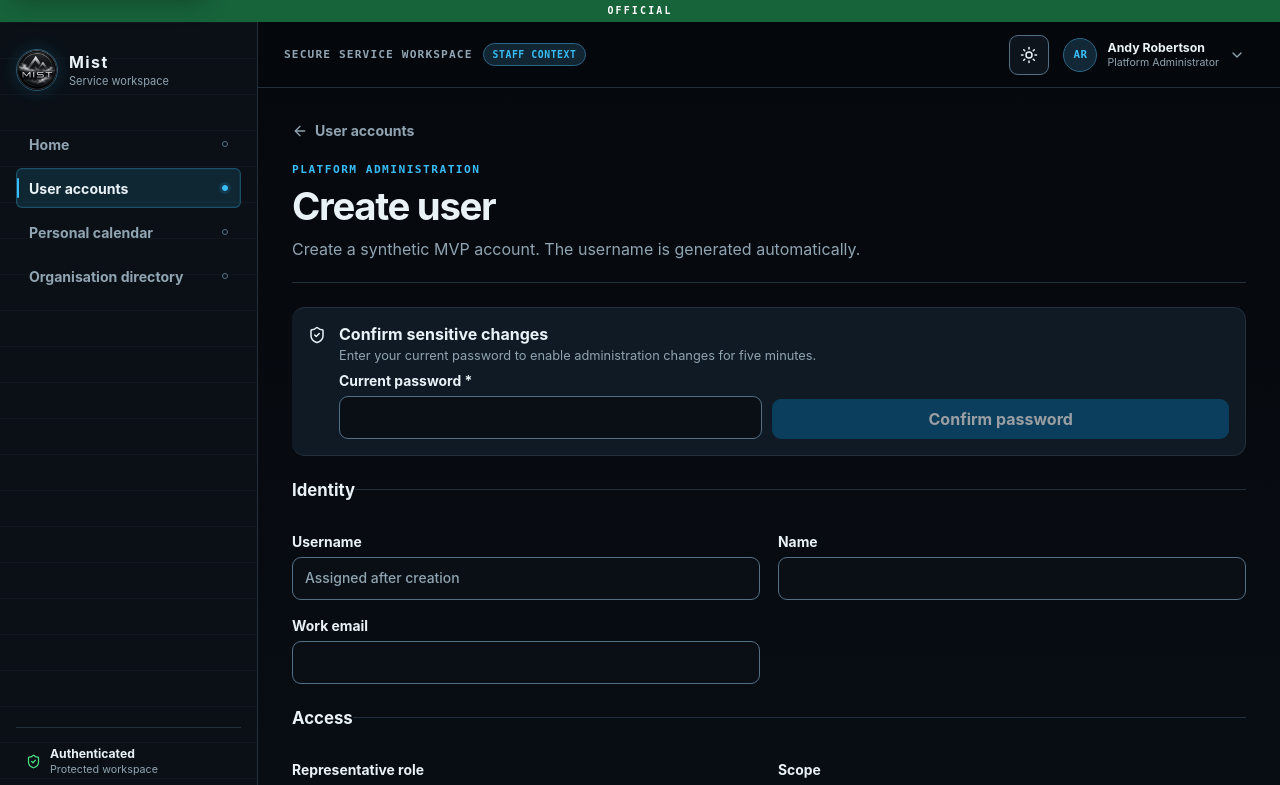
Test case: platform administrator access › keeps sensitive controls locked when password confirmation fails
Step 1. Type "wrong" into the password field labelled "Current password *" → (551, 417), box x1=339 y1=396 x2=762 y2=439
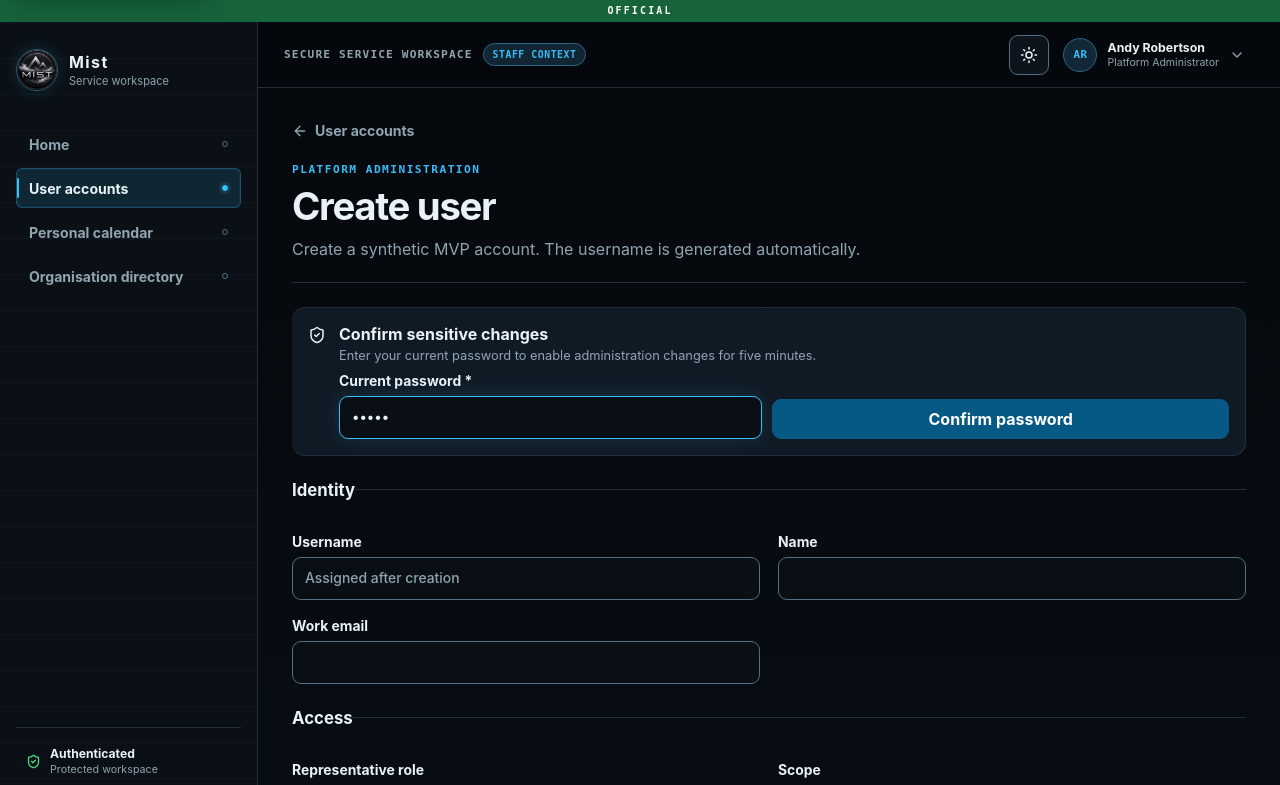
Step 2. Click the button "Confirm password" → click(1001, 419), box x1=772 y1=399 x2=1229 y2=439
(page scrolled)
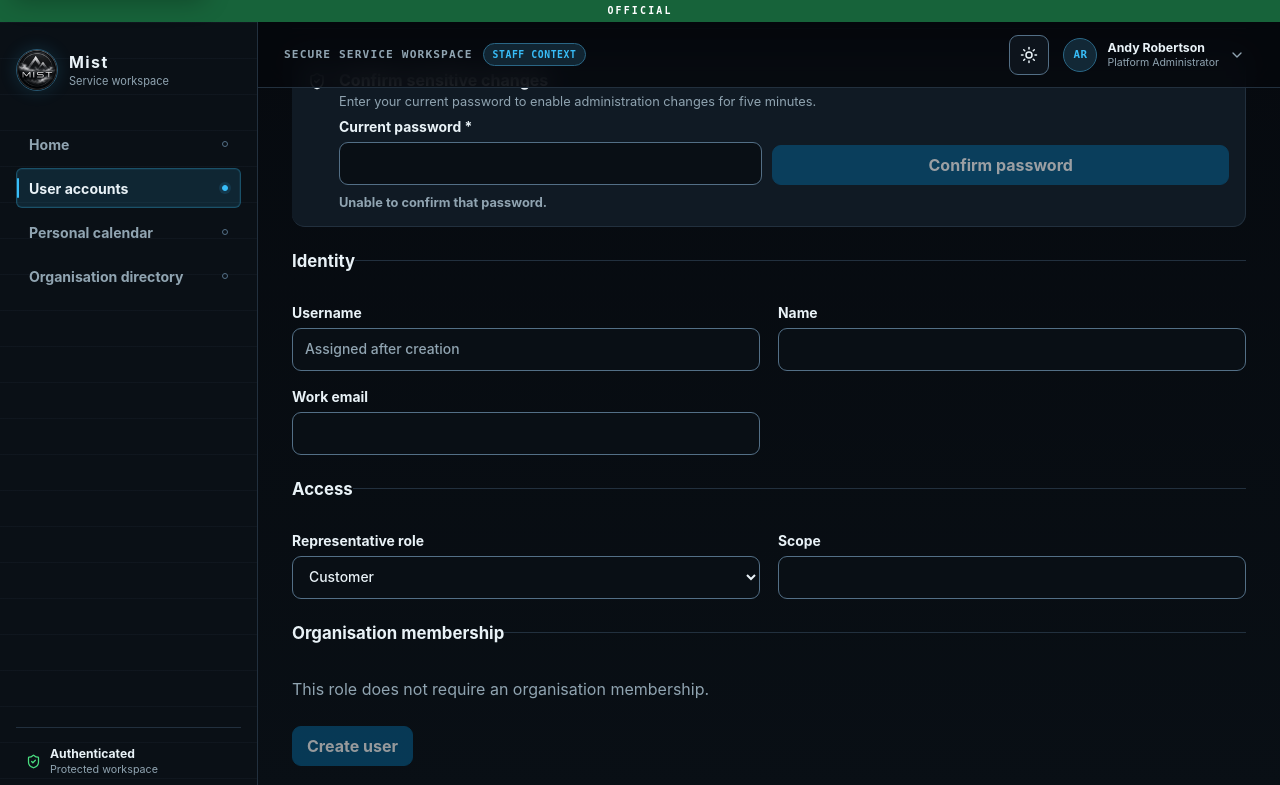
Check: the button "Create user" is disabled, box x1=292 y1=726 x2=413 y2=766
Check: the message reads "Unable to confirm that password.", box x1=339 y1=195 x2=547 y2=210
Check: the password field labelled "Current password *" is empty, box x1=339 y1=142 x2=762 y2=185
